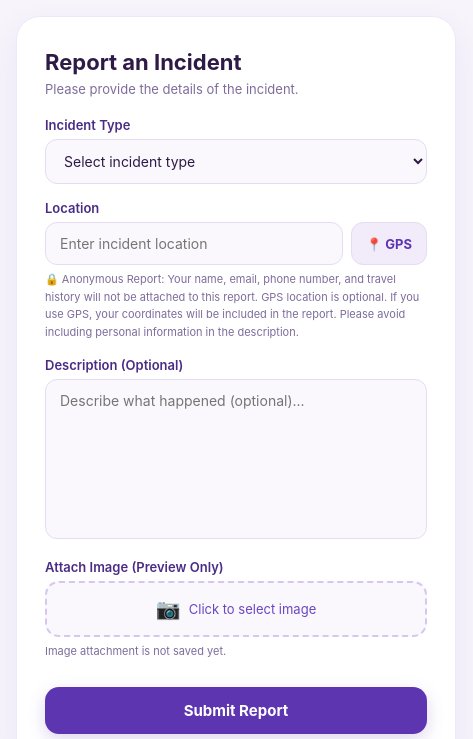
it: US-11 Anonymous Reporting - Component Tests › 7. Shows success message after submission
This screenshot has width=473, height=739.
Select "Theft / Snatching" in the dropdown labelled "Incident Type" at (236, 162), box 45,139 -> 427,184
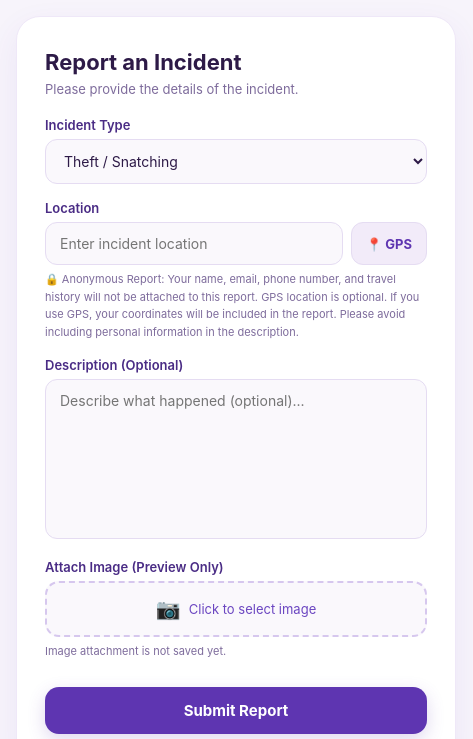
Type "Uttara" into the field labelled "Location" at (194, 244), box 45,222 -> 343,265
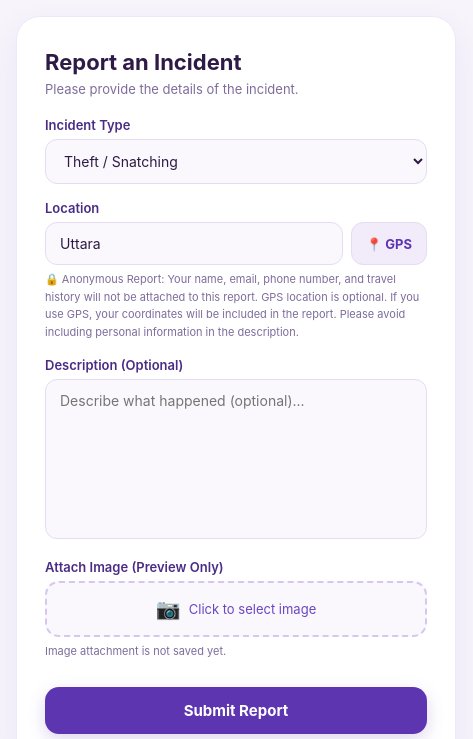
Click the button "Submit Report" at (236, 710), box 45,687 -> 427,734
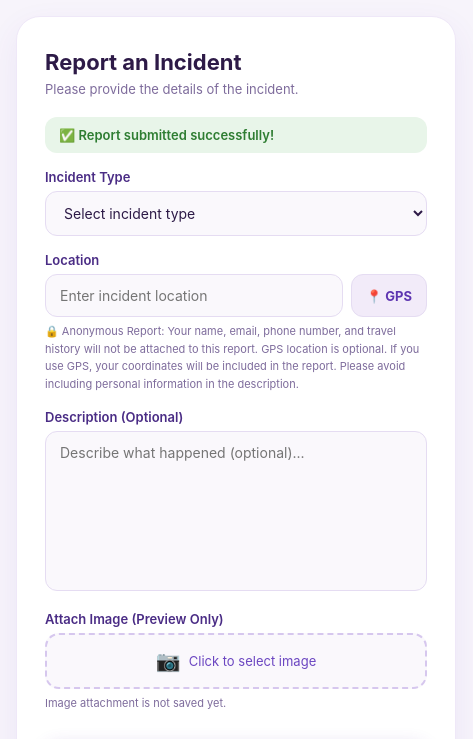
Expected: the text "✅ Report submitted successfully!" is shown, 45,117 -> 427,153
